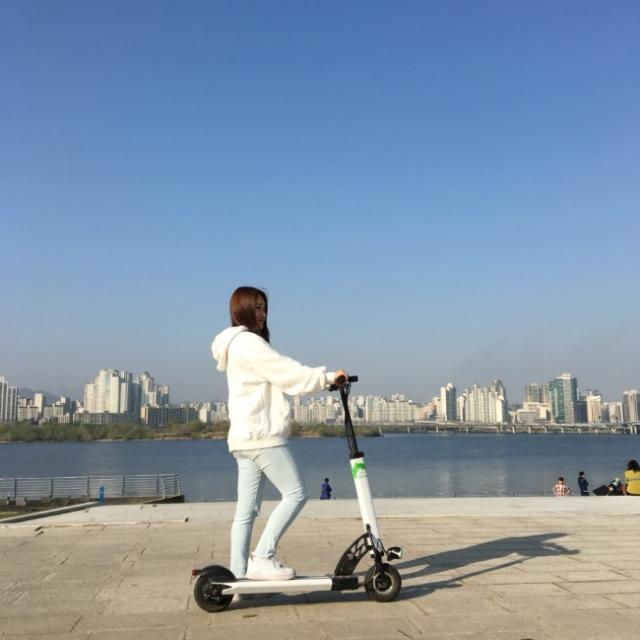non-helmet: (139, 241, 459, 636)
